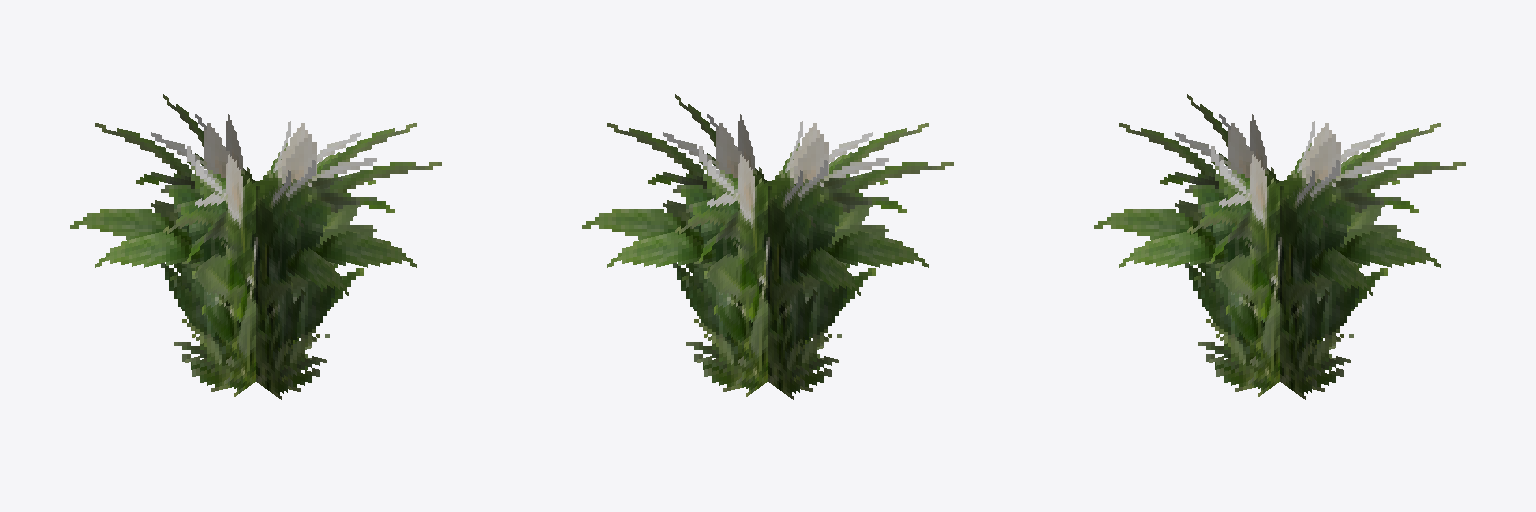
3 views of the same model, side by side, from view 1: azimuth 30°, elevation 25°; view 2: azimuth 150°, elevation 25°; view 3: azimuth 270°, elevation 25° (orthographic).
Parts seen in each view (by area): view 1: plant2pixel.001, plant2pixel.002; view 2: plant2pixel.001, plant2pixel.002; view 3: plant2pixel.001, plant2pixel.002.
Boxes of the visible parts, x1,y1,x2,y2 form: plant2pixel.001: [70, 94, 441, 399]; plant2pixel.002: [95, 123, 416, 391]; plant2pixel.001: [582, 94, 953, 399]; plant2pixel.002: [607, 123, 928, 391]; plant2pixel.001: [1094, 94, 1465, 399]; plant2pixel.002: [1119, 123, 1440, 391].
Bounding box in the file's own units: 1.38 × 1 × 1.38.
1 materials, 1 textured.